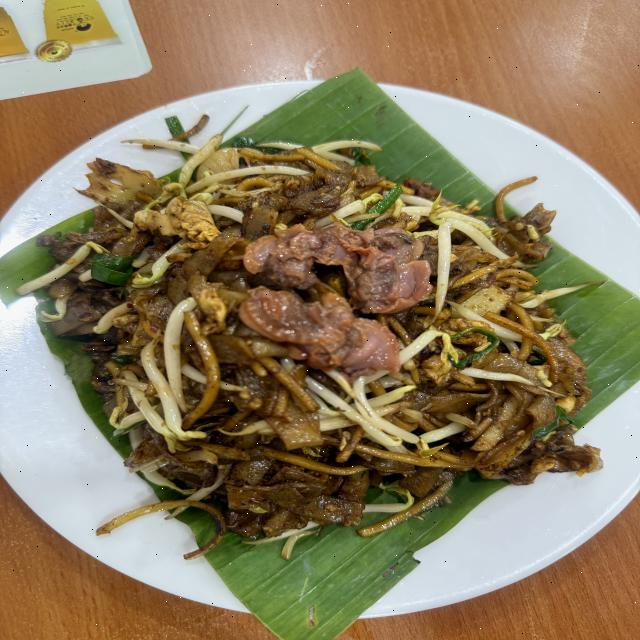Char Kway Teow: (19, 121, 610, 575)
